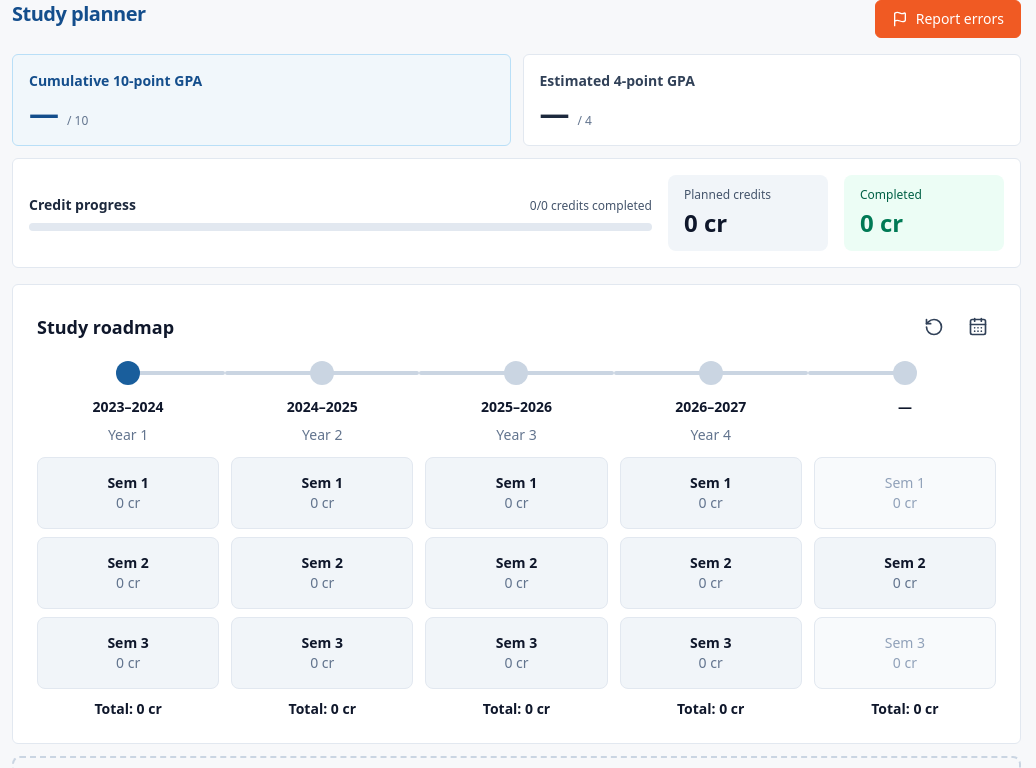
Test: Brief W28: Tiêu đề thẻ học kỳ trong Kế hoạch (Planner Semester Header) › không áp dụng hoặc lọc kế hoạch theo CTĐT đã chọn
Click the 5th button "Sem 2 0 cr" at [905, 573], box top-left (814, 537), bottom-right (996, 609)
(page scrolled)
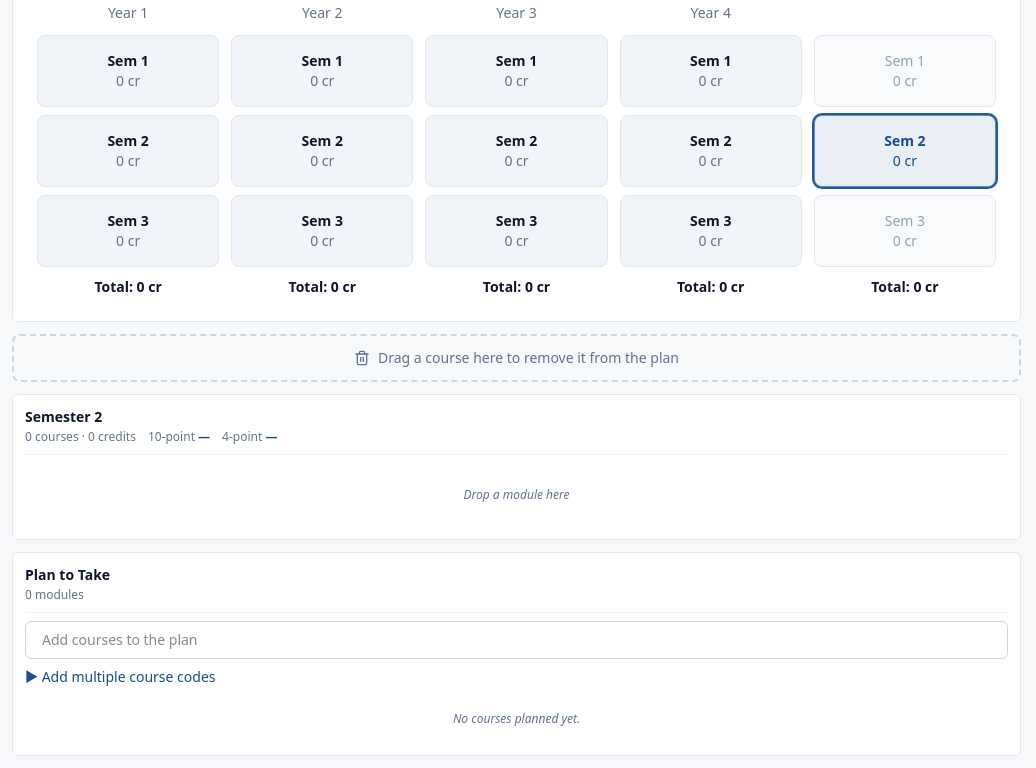
Expected: the dropdown with placeholder "Add courses to the plan" is shown, top-left (25, 621), bottom-right (1008, 659)
Expected: the text "Drop a module here" is shown, top-left (463, 486), bottom-right (570, 503)
